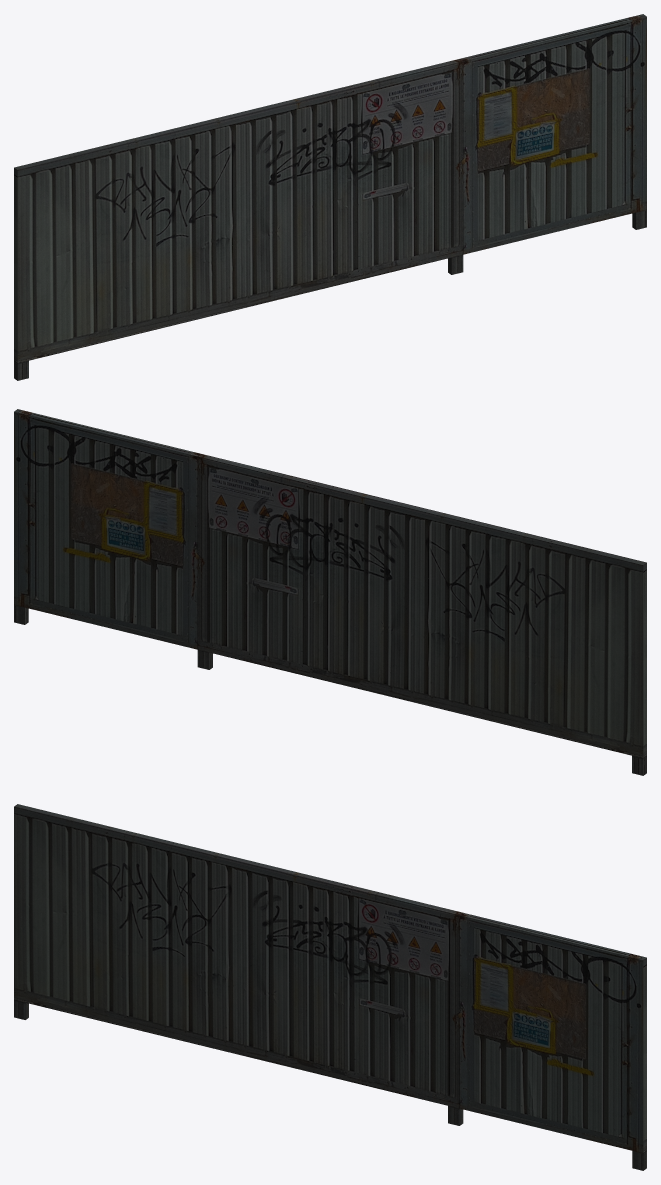
File: gate_1.obj
The picture shows the model from 3 angles, top to bottom: view 1: azimuth 30°, elevation 25°; view 2: azimuth 150°, elevation 25°; view 3: azimuth 330°, elevation 25°; orthographic projection.
Parts seen in each view (by area): view 1: gate_1; view 2: gate_1; view 3: gate_1.
Boxes of the visible parts, x1,y1,x2,y2 form: gate_1: (14,14,646,380); gate_1: (14,409,646,775); gate_1: (14,804,646,1170).
Size of the model in its own units: 5 by 1.6 by 0.05.
